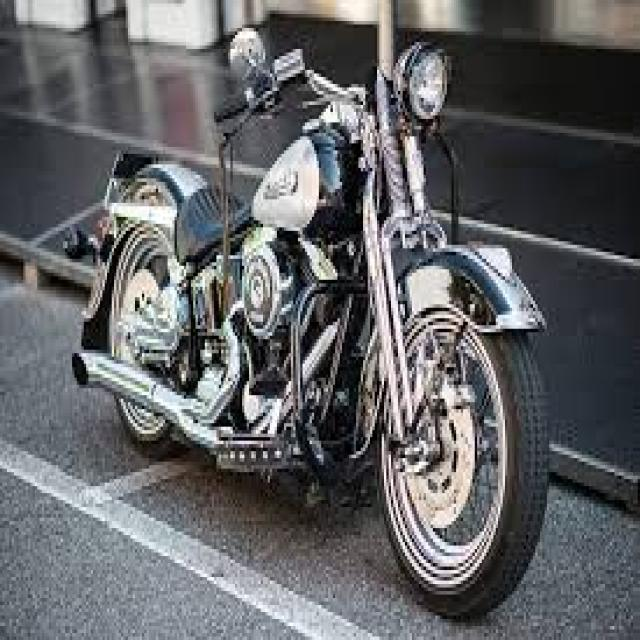MOTORCYCLE: (72, 122, 640, 605)
